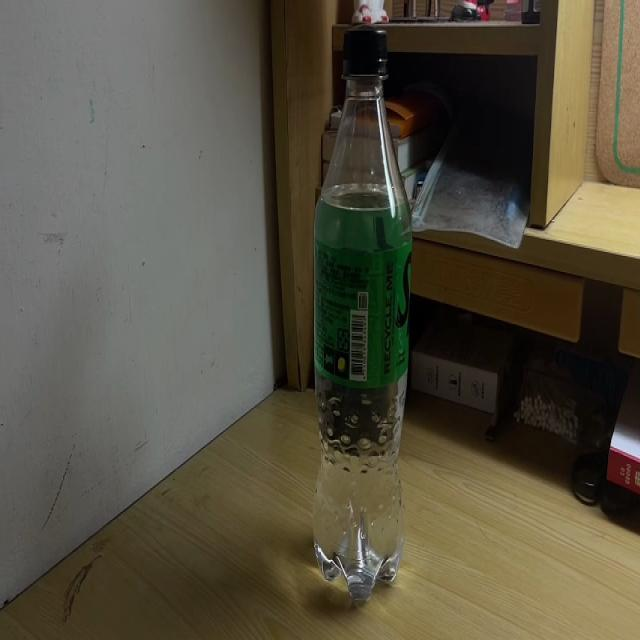Sprite: (312, 26, 413, 606)
